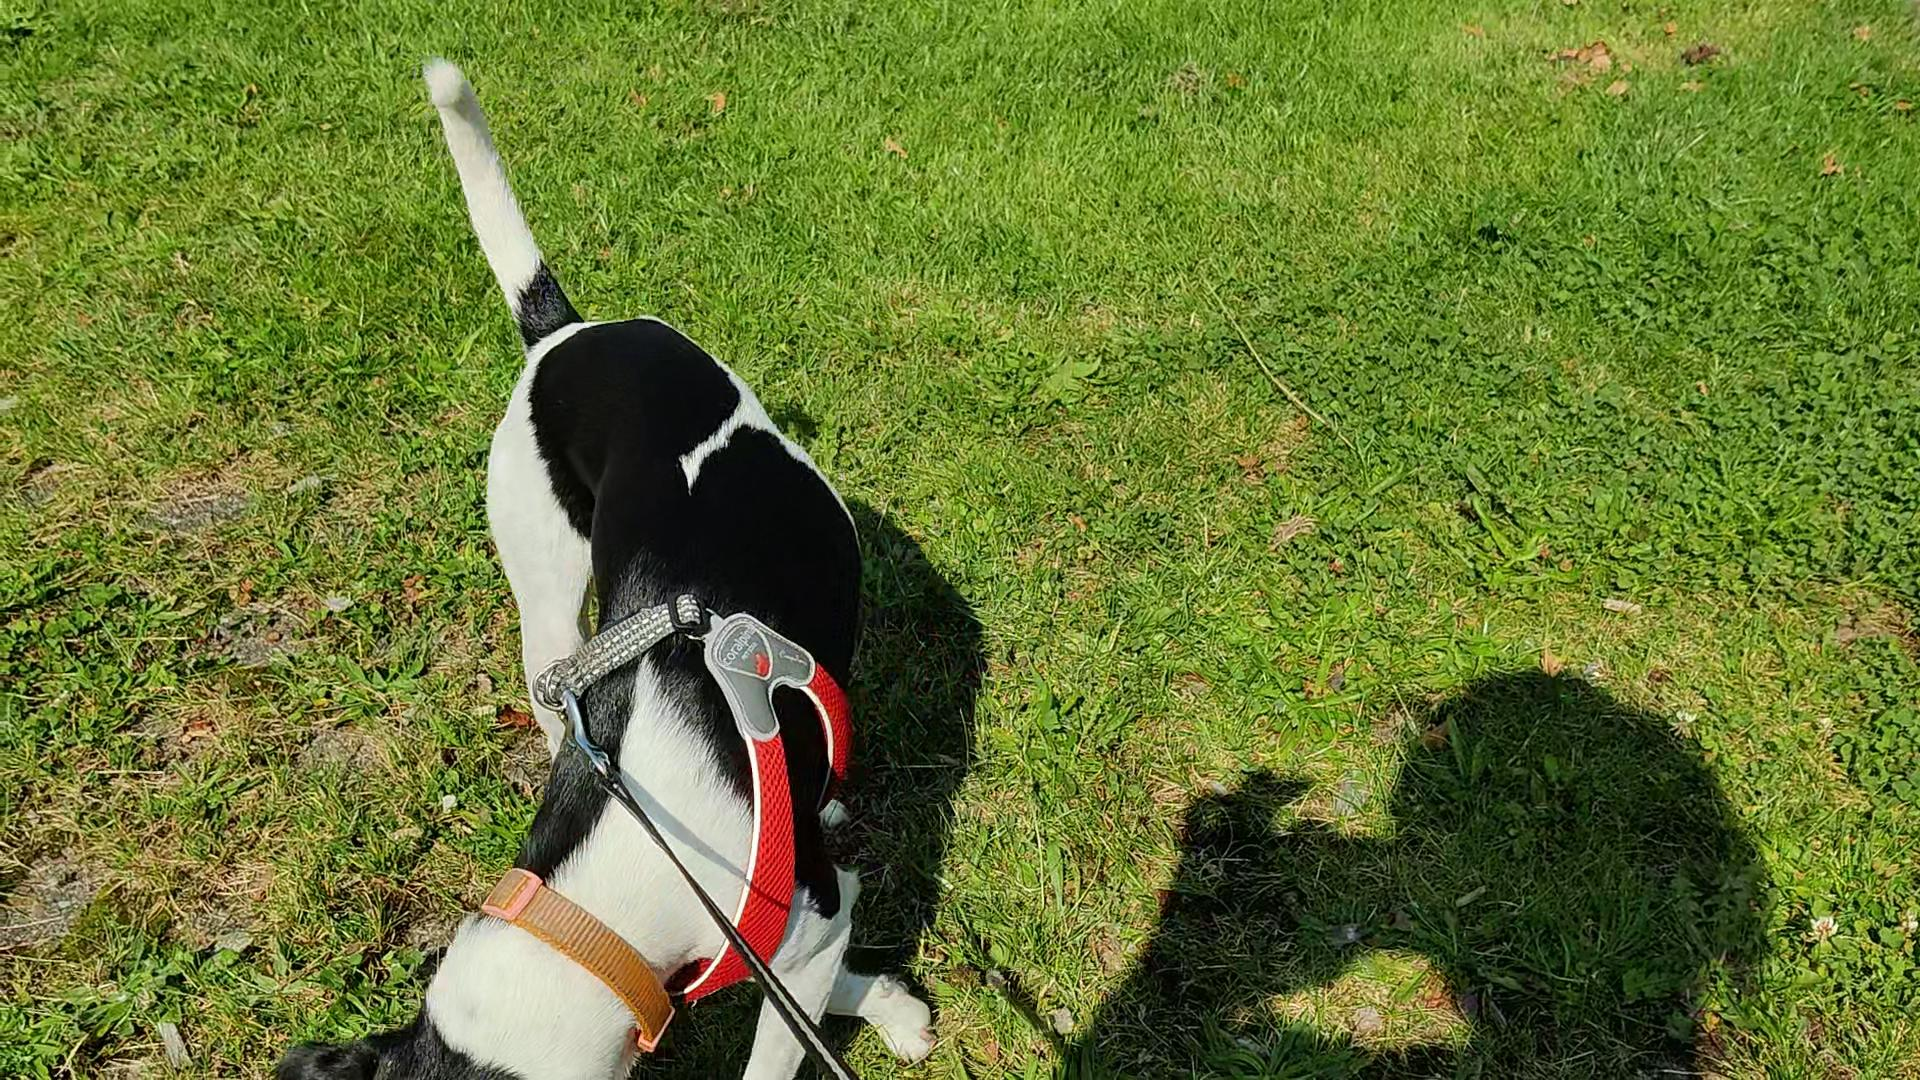Dog: (245, 41, 945, 1079)
